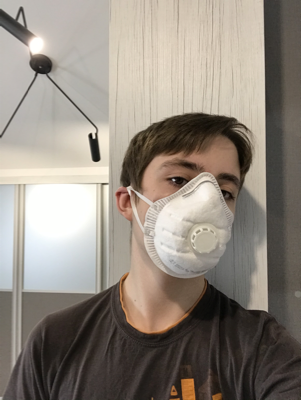with_mask: (140, 154, 241, 278)
